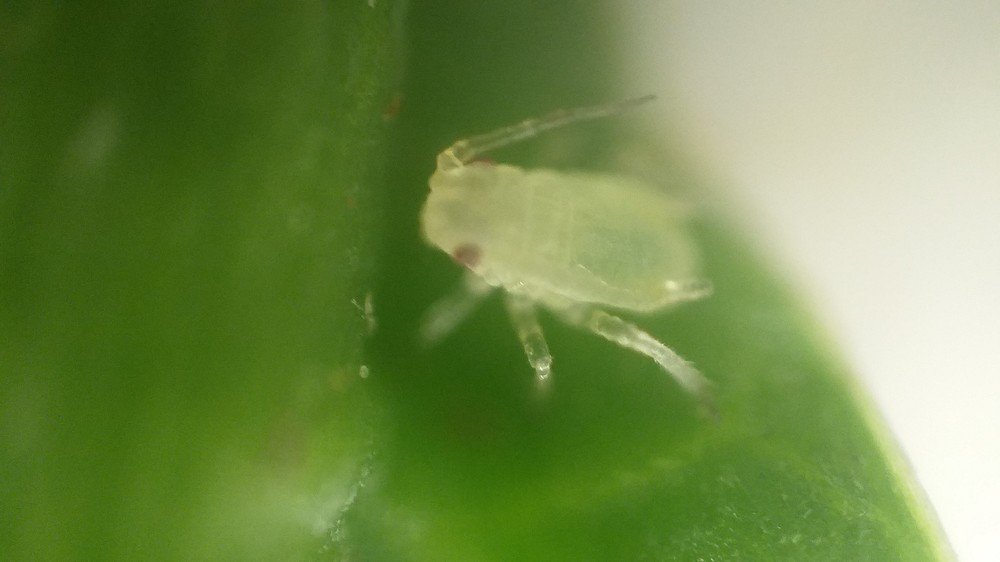Pulgon: (389, 78, 768, 434)
